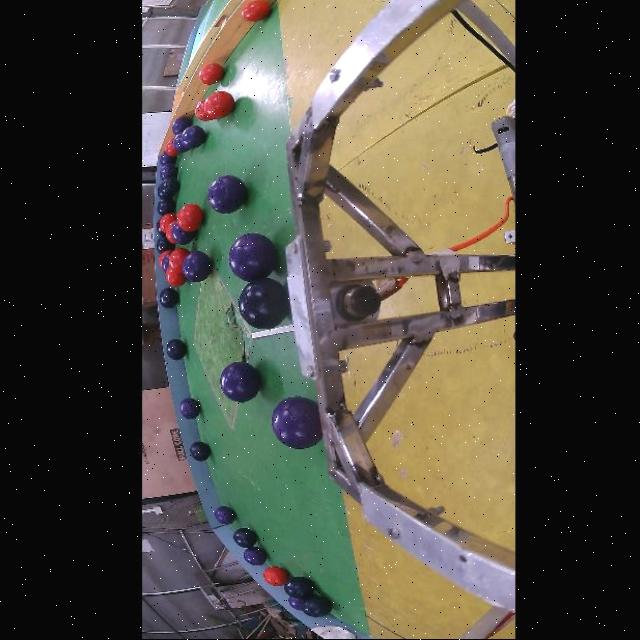B: (236, 278, 287, 330), (283, 577, 313, 600), (300, 596, 331, 618), (232, 529, 256, 549), (165, 339, 185, 361), (188, 442, 209, 462), (157, 288, 177, 309), (160, 178, 178, 197), (155, 199, 174, 216), (155, 184, 170, 200), (171, 179, 175, 183)
P: (271, 397, 321, 449), (227, 234, 275, 282), (218, 362, 259, 403), (205, 175, 245, 214), (181, 252, 210, 283), (171, 126, 204, 153), (178, 399, 199, 421), (165, 339, 185, 361), (242, 547, 265, 566), (213, 506, 234, 526), (170, 117, 191, 135), (157, 164, 177, 181), (287, 597, 301, 612)
R: (194, 91, 232, 121), (175, 204, 203, 232), (240, 0, 269, 22), (168, 248, 188, 274), (197, 64, 222, 84), (262, 568, 287, 587), (164, 268, 185, 287), (157, 213, 175, 234), (164, 139, 177, 157)
